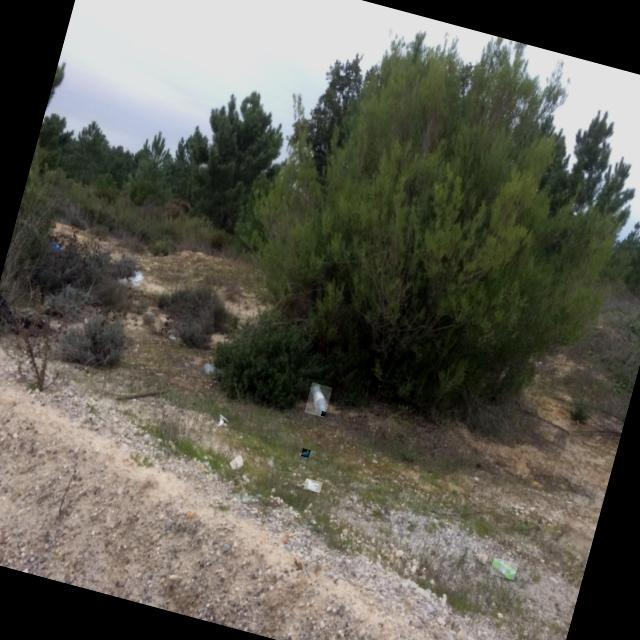Bottle cap: (320, 411, 325, 416)
Clear plastic bottle: (309, 384, 325, 417)
Food Carton: (492, 559, 515, 579)
Unlabeled litter: (303, 478, 319, 492), (300, 449, 308, 457)
